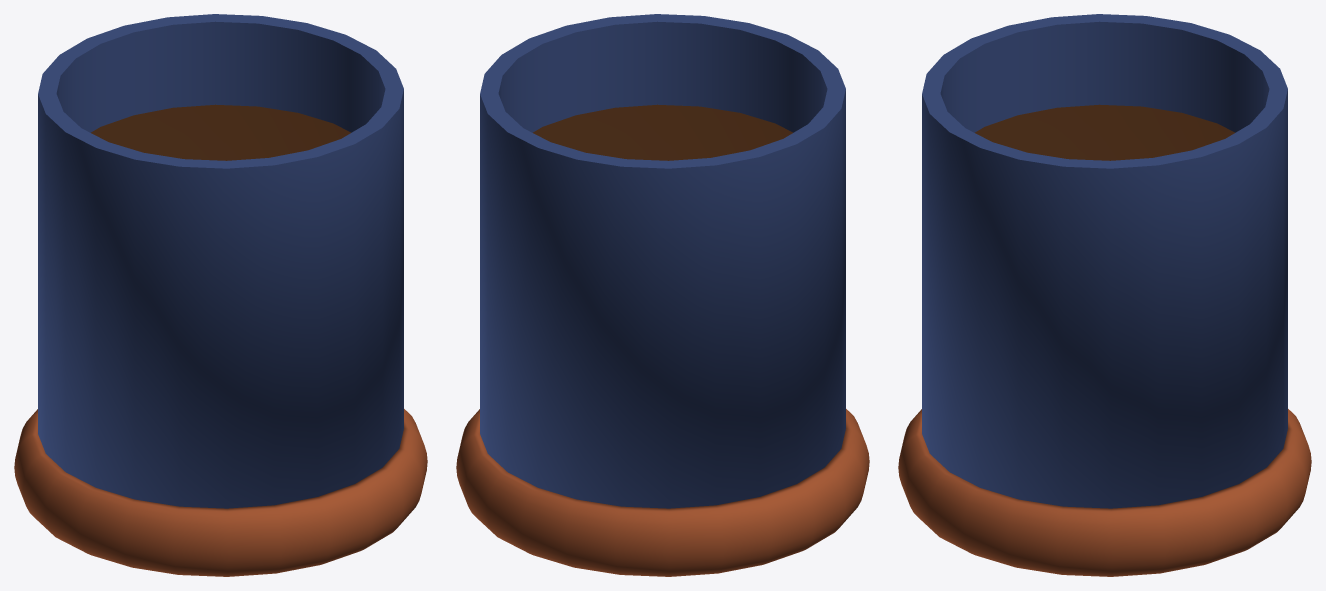
The picture shows the model from 3 angles, left to right: view 1: azimuth 30°, elevation 25°; view 2: azimuth 150°, elevation 25°; view 3: azimuth 270°, elevation 25°; orthographic projection.
Parts seen in each view (by area): view 1: mesh1-geometry-3, mesh1-geometry-2, mesh1-geometry-4; view 2: mesh1-geometry-3, mesh1-geometry-2, mesh1-geometry-4; view 3: mesh1-geometry-3, mesh1-geometry-2, mesh1-geometry-4.
Boxes of the visible parts, bbox=[...] form: mesh1-geometry-3: bbox=[38, 14, 403, 508]; mesh1-geometry-2: bbox=[14, 409, 427, 576]; mesh1-geometry-4: bbox=[91, 104, 350, 160]; mesh1-geometry-3: bbox=[480, 14, 845, 508]; mesh1-geometry-2: bbox=[456, 409, 869, 576]; mesh1-geometry-4: bbox=[533, 104, 792, 160]; mesh1-geometry-3: bbox=[922, 14, 1287, 508]; mesh1-geometry-2: bbox=[898, 409, 1311, 576]; mesh1-geometry-4: bbox=[975, 104, 1234, 160].
Size of the model in its own units: 0.5608 by 0.6091 by 0.5608.
